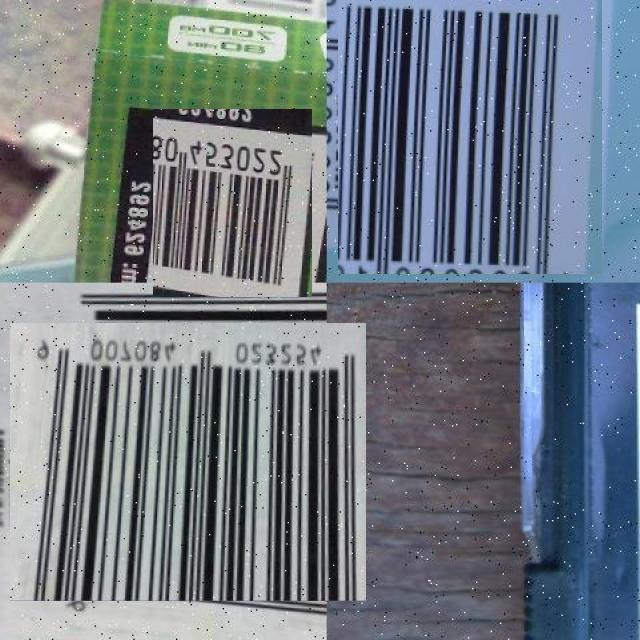Barcode: (29, 303, 347, 620), (333, 0, 608, 270), (146, 116, 320, 290)
